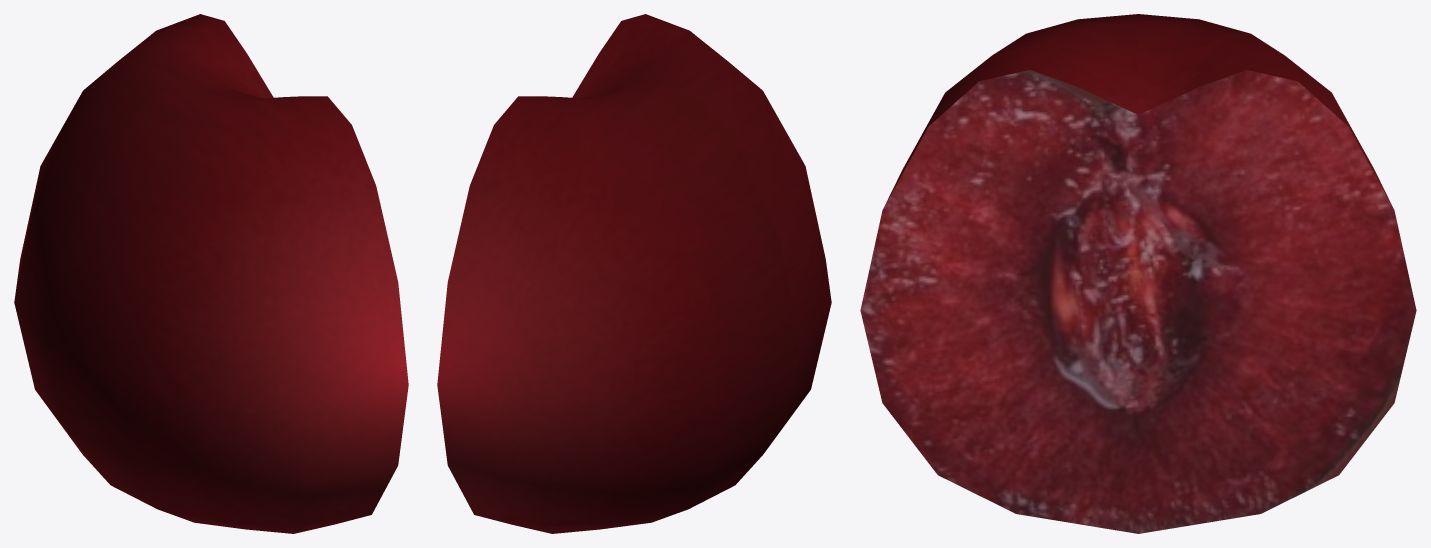
The model's file is cherryS.FBX.
3 views of the same model, side by side, from view 1: azimuth 30°, elevation 25°; view 2: azimuth 150°, elevation 25°; view 3: azimuth 270°, elevation 25° (orthographic). The views are drawn at different scales.
Visible parts, largest first — view 1: Cherry001; view 2: Cherry001; view 3: Cherry001.
Part boxes in pixels (x1=…): Cherry001: x1=14, y1=14, x2=408, y2=533; Cherry001: x1=437, y1=14, x2=831, y2=533; Cherry001: x1=860, y1=14, x2=1416, y2=533.
Bounding box in the file's own units: 1.71 × 3.17 × 3.43.
